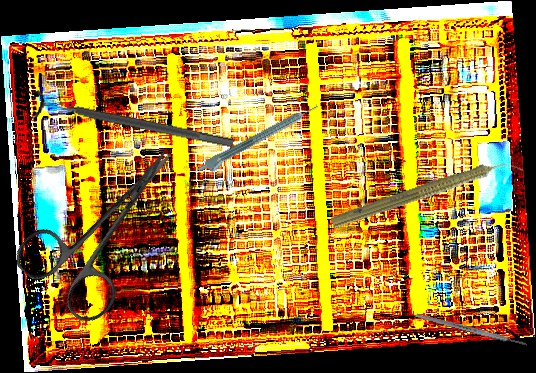Fixation Ring: (28, 88, 237, 160)
Handpiece: (329, 149, 524, 237), (196, 102, 323, 179)
Iris Scissors: (8, 118, 213, 331)
Scalpel Handle: (416, 312, 528, 348)
